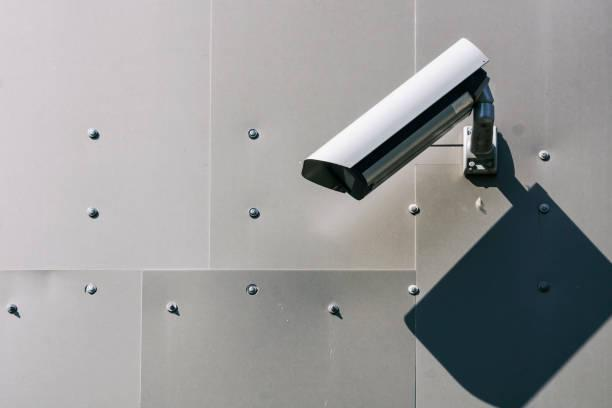camera: (266, 31, 551, 207)
